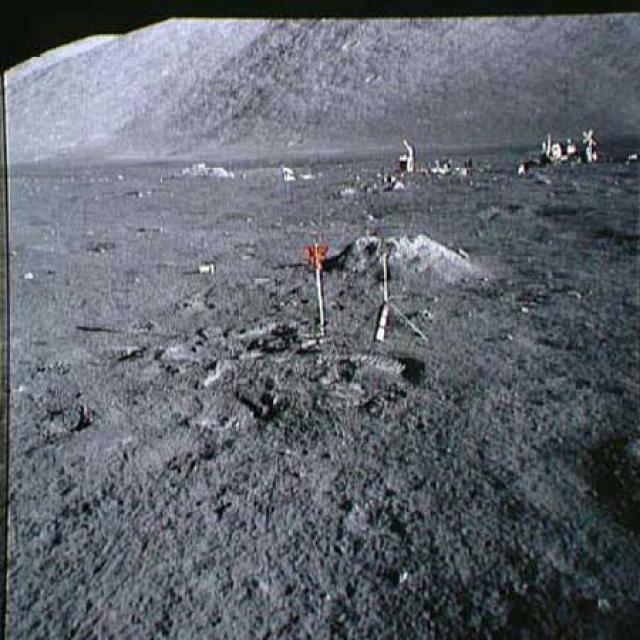artifact: (363, 238, 428, 350), (300, 234, 340, 338), (526, 127, 610, 170), (392, 143, 478, 181)
rock: (333, 226, 463, 274), (165, 159, 234, 181)
